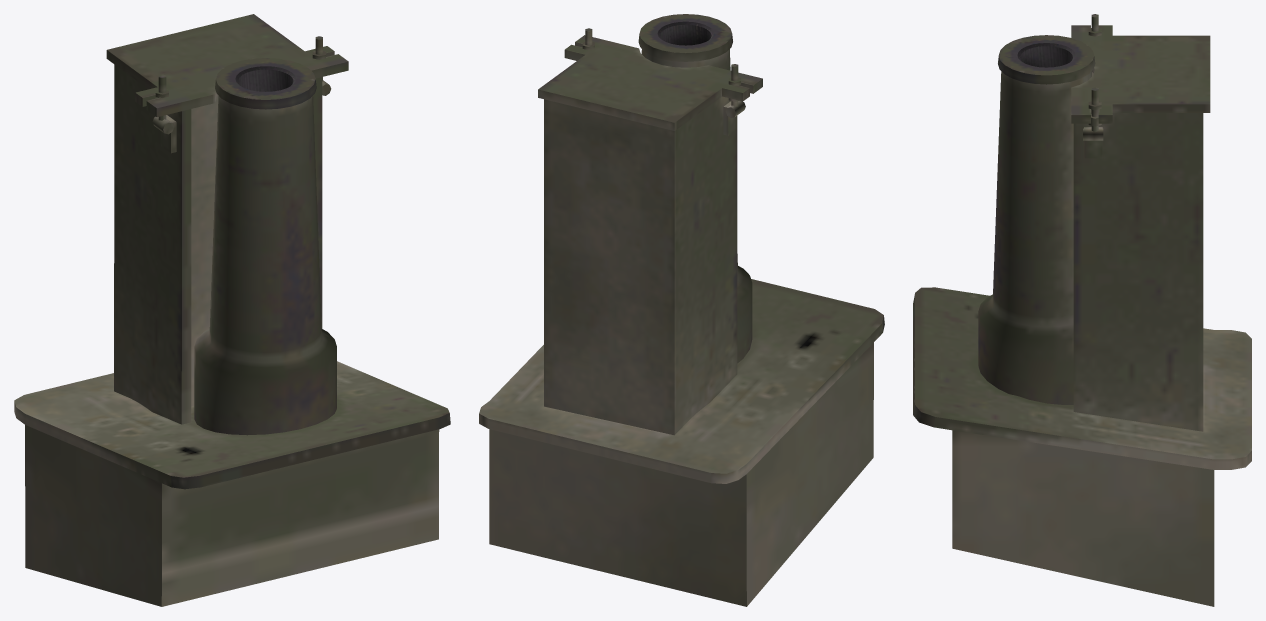
File: Gun_01.glb
3 renders of one model, left to right at view 1: azimuth 30°, elevation 25°; view 2: azimuth 150°, elevation 25°; view 3: azimuth 270°, elevation 25°, orthographic. The views are drawn at different scales.
Visible parts, largest first — view 1: set_0_group_0; view 2: set_0_group_0; view 3: set_0_group_0.
Boxes of the visible parts, <box> form: set_0_group_0: <box>14,14,450,606</box>; set_0_group_0: <box>479,14,884,606</box>; set_0_group_0: <box>913,14,1251,606</box>.
Bounding box in the file's own units: 0.4399 × 0.7864 × 0.4859.
Materials: 1 (1 with a texture image).
